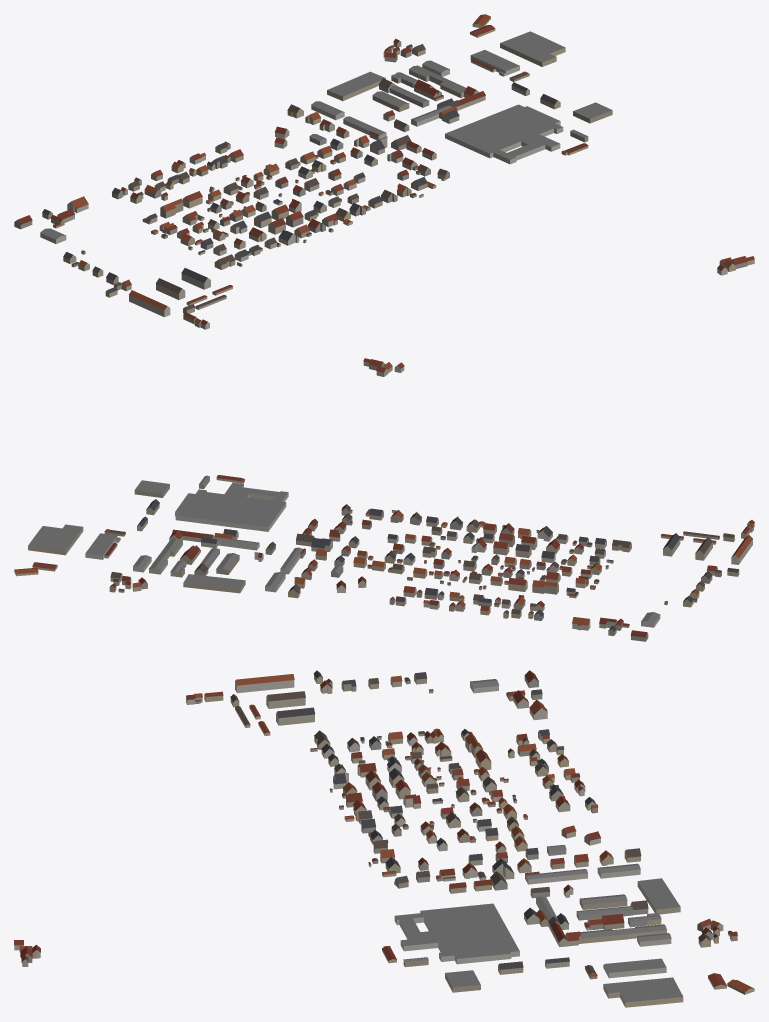
3 renders of one model, top to bottom at view 1: azimuth 30°, elevation 25°; view 2: azimuth 150°, elevation 25°; view 3: azimuth 270°, elevation 25°, orthographic. The views are drawn at different scales.
Parts seen in each view (by area): view 1: buildings; view 2: buildings; view 3: buildings.
Part boxes in pixels (x1,y1,x2,y2): buildings: [14, 14, 754, 329]; buildings: [14, 358, 754, 641]; buildings: [14, 670, 754, 1007].
Bounding box in the file's own units: 808 × 16.4 × 763.
